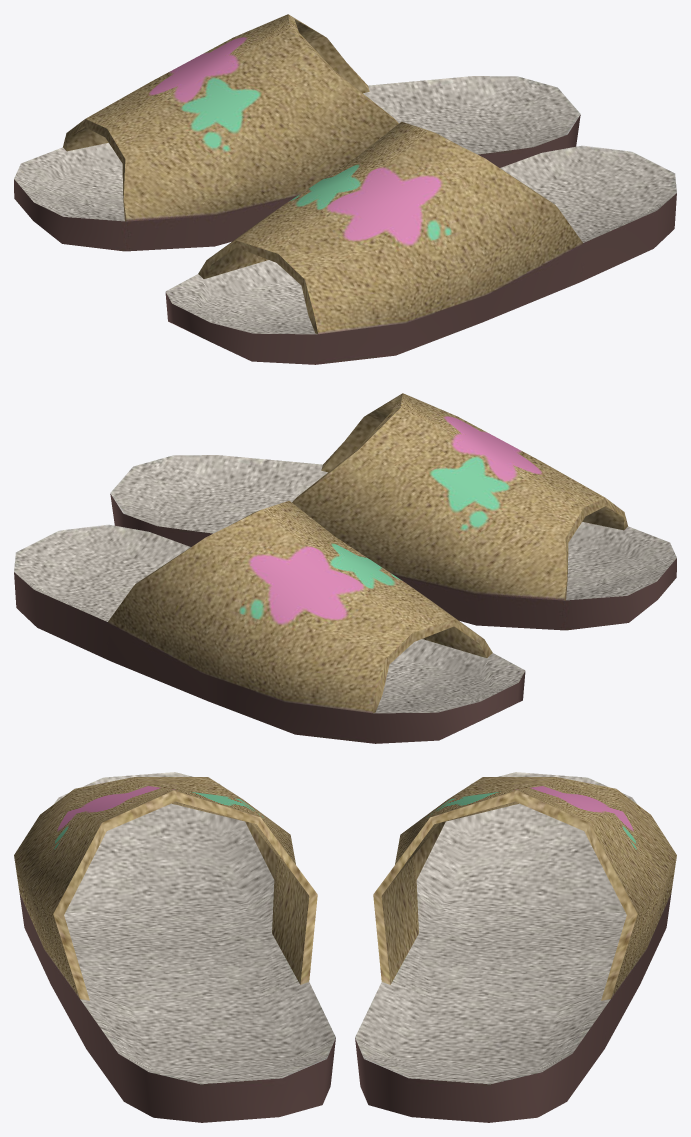
Rendered from tapki.dae.
The picture shows the model from 3 angles, top to bottom: view 1: azimuth 30°, elevation 25°; view 2: azimuth 150°, elevation 25°; view 3: azimuth 270°, elevation 25°; orthographic projection. The views are drawn at different scales.
Visible parts, largest first — view 1: pizdec_a_ne_tapok, tapok; view 2: tapok, pizdec_a_ne_tapok; view 3: pizdec_a_ne_tapok, tapok.
Boxes of the visible parts, box(x1,y1,x2,y2) form: pizdec_a_ne_tapok: box(165, 121, 676, 364); tapok: box(14, 14, 580, 251); tapok: box(14, 500, 525, 743); pizdec_a_ne_tapok: box(110, 393, 676, 630); pizdec_a_ne_tapok: box(14, 772, 335, 1122); tapok: box(355, 772, 676, 1122).
Size of the model in its own units: 313 by 284 by 92.19.
Materials: 1 (1 with a texture image).
